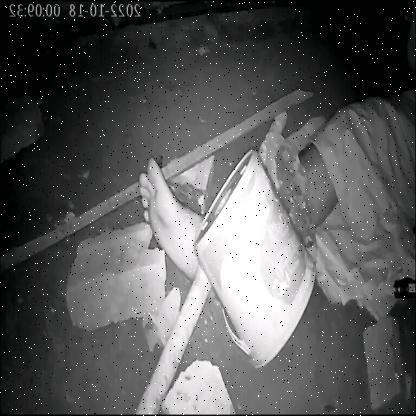leg: (118, 145, 217, 282)
